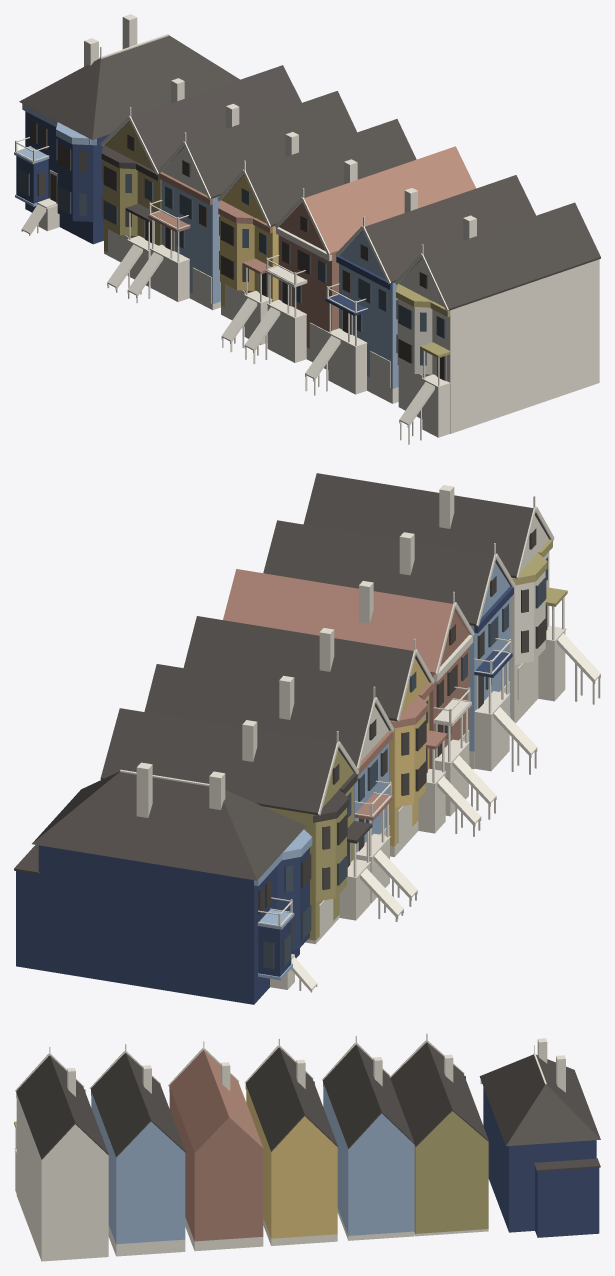
File: painted-ladies-far.glb
3 views of the same model, one above another, from view 1: azimuth 30°, elevation 25°; view 2: azimuth 150°, elevation 25°; view 3: azimuth 270°, elevation 25° (orthographic). The views are drawn at different scales.
Visible parts, largest first — view 1: painted-ladies-0-roof, painted-ladies-0-trim, painted-ladies-0-rose, painted-ladies-0-blue, painted-ladies-0-navy, painted-ladies-0-sage, painted-ladies-0-glow, painted-ladies-0-yellow; view 2: painted-ladies-0-roof, painted-ladies-0-navy, painted-ladies-0-trim, painted-ladies-0-rose, painted-ladies-0-blue, painted-ladies-0-sage, painted-ladies-0-yellow, painted-ladies-0-glow; view 3: painted-ladies-0-roof, painted-ladies-0-trim, painted-ladies-0-blue, painted-ladies-0-rose, painted-ladies-0-navy, painted-ladies-0-yellow, painted-ladies-0-sage.
Part boxes in pixels (x1,y1,x2,y2): painted-ladies-0-roof: (19,35,600,380); painted-ladies-0-trim: (15,14,599,444); painted-ladies-0-rose: (148,146,475,348); painted-ladies-0-blue: (14,104,398,388); painted-ladies-0-navy: (16,111,392,315); painted-ladies-0-sage: (103,121,450,358); painted-ladies-0-glow: (18,139,445,365); painted-ladies-0-yellow: (220,175,278,307); painted-ladies-0-roof: (14,473,550,942); painted-ladies-0-navy: (16,586,513,1004); painted-ladies-0-trim: (120,485,600,992); painted-ladies-0-rose: (223,569,470,820); painted-ladies-0-blue: (254,562,510,980); painted-ladies-0-sage: (263,539,567,940); painted-ladies-0-yellow: (389,658,429,846); painted-ladies-0-glow: (263,557,547,968); painted-ladies-0-roof: (16,1042,600,1171); painted-ladies-0-trim: (14,1033,565,1261); painted-ladies-0-blue: (91,1080,482,1244); painted-ladies-0-rose: (169,1050,323,1241); painted-ladies-0-navy: (91,1087,599,1237); painted-ladies-0-yellow: (246,1086,337,1238); painted-ladies-0-sage: (14,1089,488,1233).
Bounding box in the file's own units: 24.64 × 15 × 54.28.
